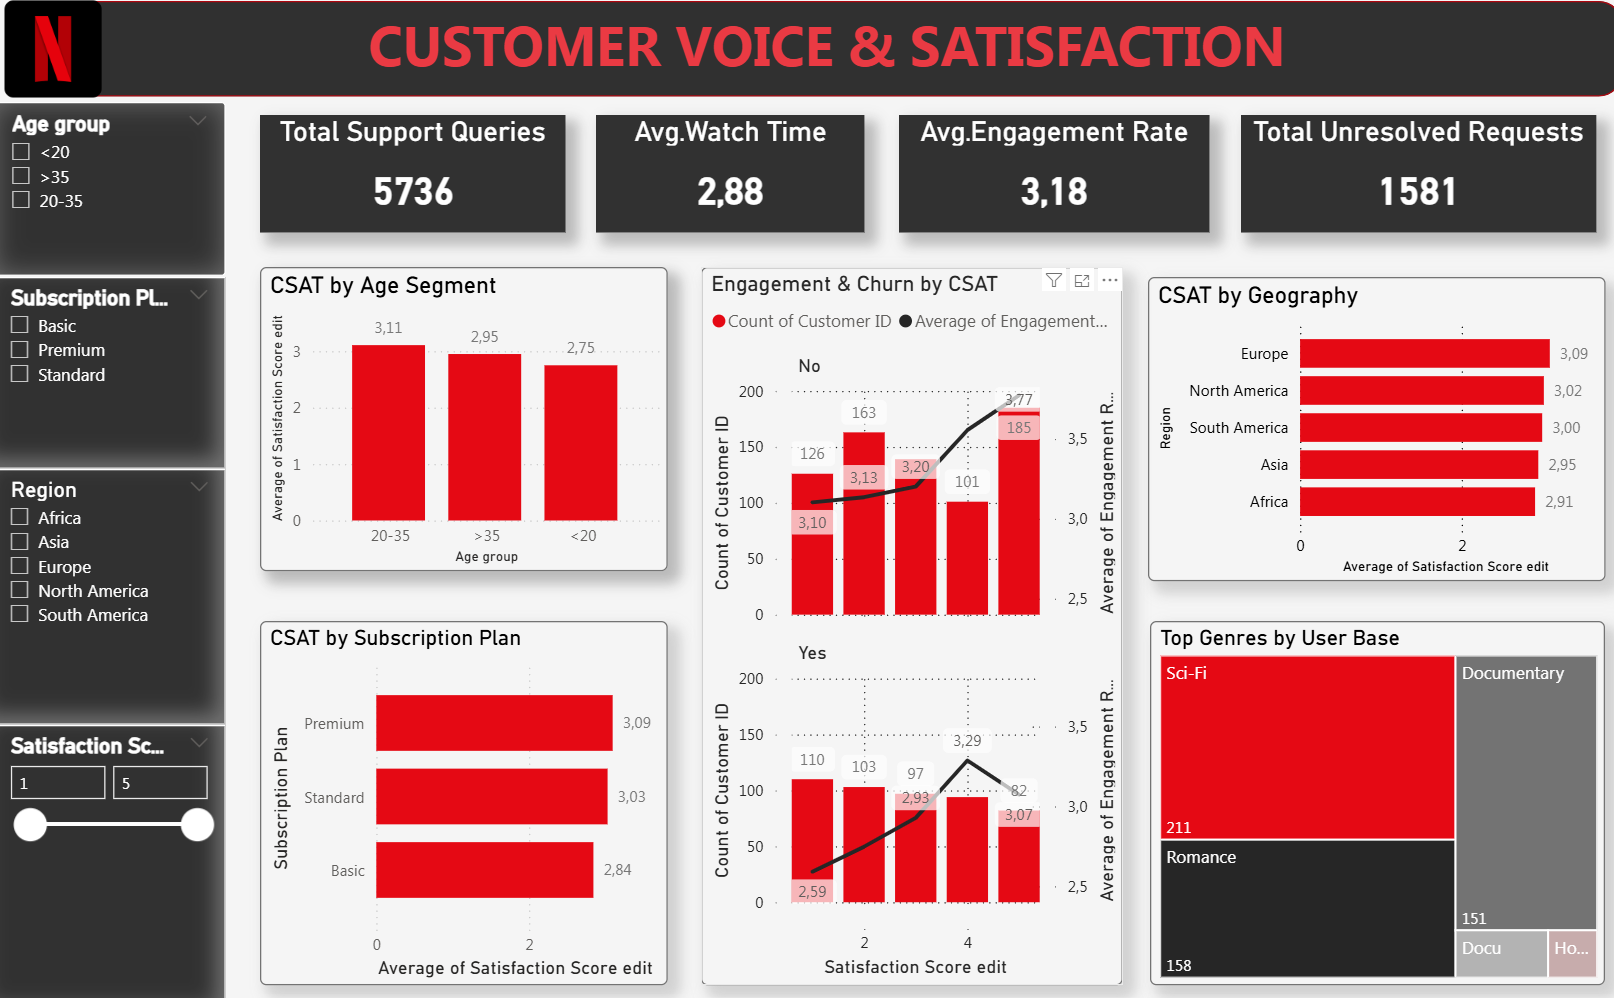

Layout of this report page (visuals, bound fields, positions):
{"tool":"powerbi","page":{"name":"Satisfaction Score","canvas":[1280,800],"ordinal":2},"visuals":[{"type":"card","title":"Avg.Engagement Rate","fields":{"Values":["Avg(Fact_Customer_Q4.Engagement Rate (1-5))"]},"box":[709,94.4,243,91.9],"z":0},{"type":"card","title":"Avg.Watch Time","fields":{"Values":["Avg(Fact_Customer_Q4.Daily Watch Time (Hours))"]},"box":[472.2,94.4,210.3,91.9],"z":1000},{"type":"card","title":"Total Support Queries","fields":{"Values":["Sum(Fact_Customer_Q4.Support Queries Logged)"]},"box":[208.8,94.4,238.9,91.9],"z":2000},{"type":"card","title":"Total Unresolved Requests","fields":{"Values":["Sum(Fact_Customer_Q4.Unresolved Support Requests)"]},"box":[976.5,94.4,277.7,91.9],"z":3000},{"type":"columnChart","title":"CSAT  by Age Segment","fields":{"Category":["Dim_Customer.Age group"],"Y":["Avg(Fact_Customer_Q4.Satisfaction Score edit)"]},"box":[209.3,213.5,318.8,238.3],"z":4000},{"type":"barChart","title":"CSAT by Geography","fields":{"Category":["Dim_Customer.Region"],"Y":["Avg(Fact_Customer_Q4.Satisfaction Score edit)"]},"box":[903.3,221.2,357.6,238.4],"z":5000},{"type":"clusteredBarChart","title":"CSAT by Subscription Plan","fields":{"Category":["Dim_Subscription_Plan.Subscription Plan"],"Y":["Avg(Fact_Customer_Q4.Satisfaction Score edit)"]},"box":[209.3,490.5,318.8,285],"z":6000},{"type":"treemap","title":"Top Genres by User Base","fields":{"Group":["Fact_Customer_Q4.Genre Preference"],"Values":["CountNonNull(Dim_Customer.Customer ID)"]},"box":[904.9,490.5,355.9,285],"z":7000},{"type":"slicer","fields":{"Values":["Dim_Customer.Age group"]},"box":[0,84.7,182.4,136.4],"z":8000},{"type":"slicer","fields":{"Values":["Dim_Subscription_Plan.Subscription Plan"]},"box":[-0.1,221.8,182,150],"z":9000},{"type":"slicer","fields":{"Values":["Dim_Customer.Region"]},"box":[0,371.9,182.4,199.6],"z":10000},{"type":"slicer","fields":{"Values":["Fact_Customer_Q4.Satisfaction Score edit"]},"box":[0,571.6,182.4,228.3],"z":11000},{"type":"lineClusteredColumnComboChart","title":"Engagement & Churn by CSAT","fields":{"Category":["Fact_Customer_Q4.Satisfaction Score edit"],"Y":["Count(Fact_Customer_Q4.Customer ID)"],"Y2":["Avg(Fact_Customer_Q4.Engagement Rate (1-5))"],"Rows":["Dim_User_Subscription.Churn Status (Yes/No)"]},"box":[553.9,213.5,330.1,562],"z":12000},{"type":"shape","box":[15.8,5.7,1259.4,74.7],"z":13000},{"type":"image","box":[0,0,93.3,86.2],"z":14000},{"type":"textbox","box":[288.6,5.7,753.9,99.1],"z":15000}]}

Visuals, with their boxes in screenshot pixels (x1, y1, x2, y2), scaled from the page's 1280x800 canvas onto the 1614x998 screenshot:
"Avg.Engagement Rate" card: x1=894, y1=118, x2=1200, y2=232
"Avg.Watch Time" card: x1=595, y1=118, x2=861, y2=232
"Total Support Queries" card: x1=263, y1=118, x2=565, y2=232
"Total Unresolved Requests" card: x1=1231, y1=118, x2=1581, y2=232
"CSAT  by Age Segment" columnChart: x1=264, y1=266, x2=666, y2=564
"CSAT by Geography" barChart: x1=1139, y1=276, x2=1590, y2=573
"CSAT by Subscription Plan" clusteredBarChart: x1=264, y1=612, x2=666, y2=967
"Top Genres by User Base" treemap: x1=1141, y1=612, x2=1590, y2=967
slicer - Dim_Customer.Age group: x1=0, y1=106, x2=230, y2=276
slicer - Dim_Subscription_Plan.Subscription Plan: x1=0, y1=277, x2=229, y2=464
slicer - Dim_Customer.Region: x1=0, y1=464, x2=230, y2=713
slicer - Fact_Customer_Q4.Satisfaction Score edit: x1=0, y1=713, x2=230, y2=997
"Engagement & Churn by CSAT" lineClusteredColumnComboChart: x1=698, y1=266, x2=1115, y2=967
shape: x1=20, y1=7, x2=1608, y2=100
image: x1=0, y1=0, x2=118, y2=108
textbox: x1=364, y1=7, x2=1315, y2=131
